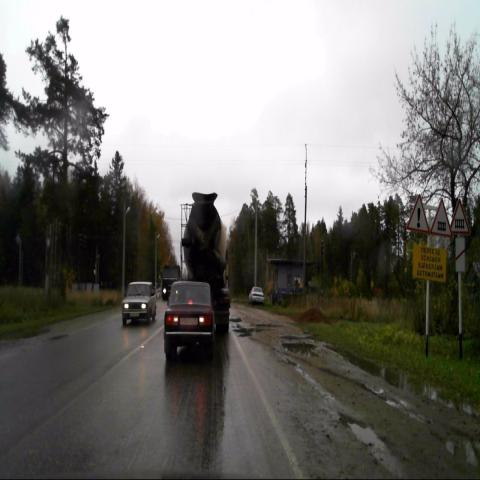1_1: (430, 199, 452, 238)
1_33: (406, 193, 430, 235)
